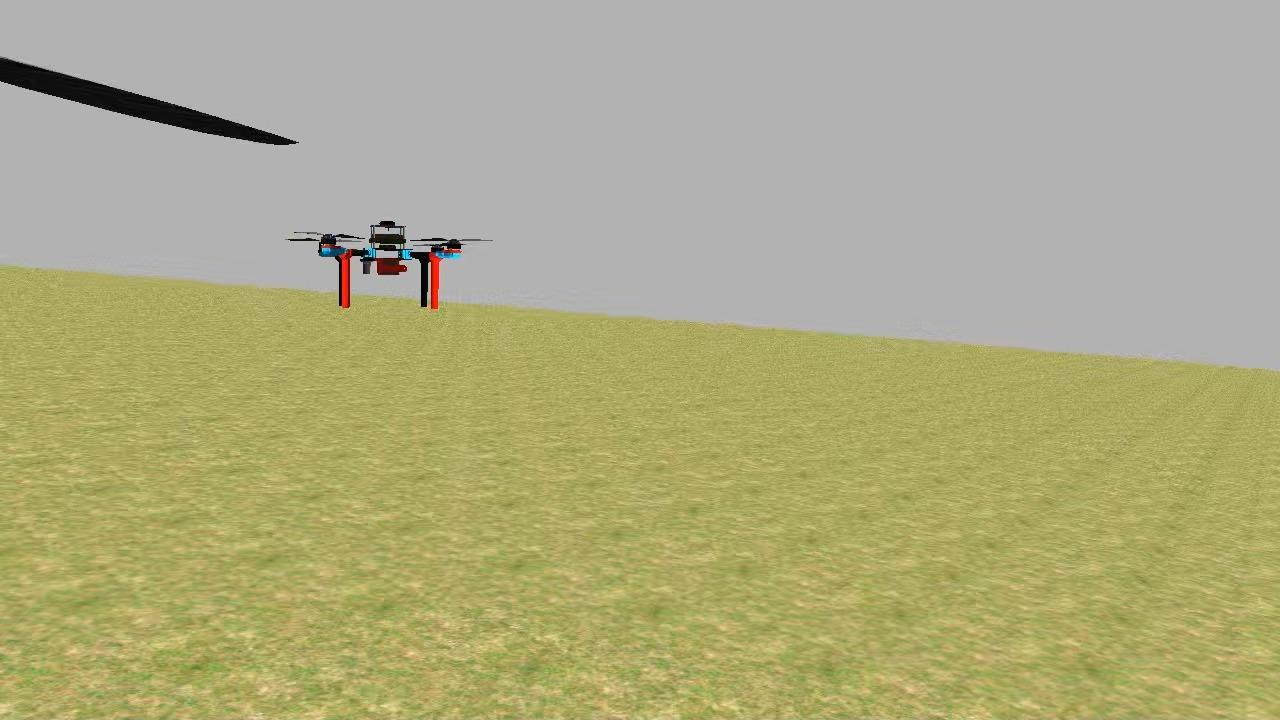UAV: (312, 216, 472, 320)
